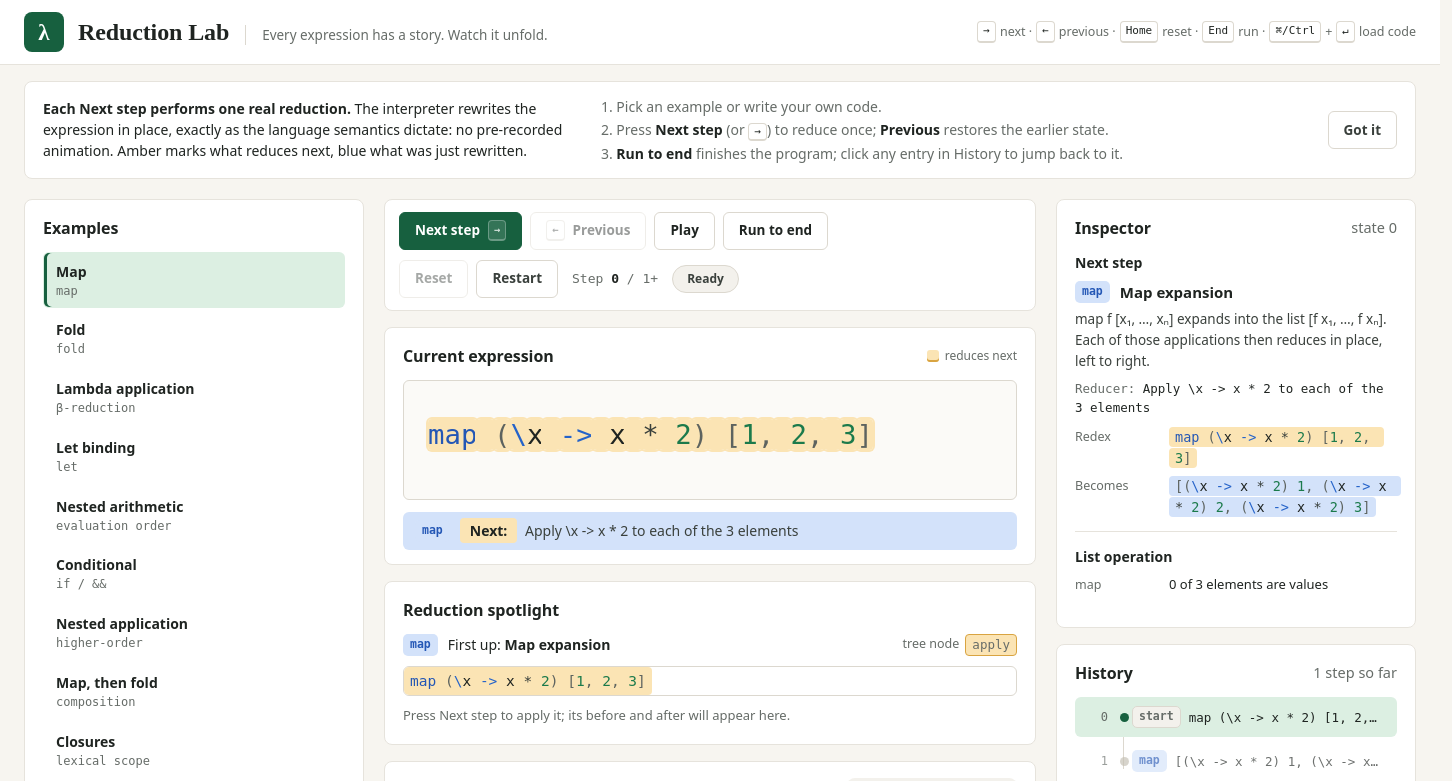
Scenario: timers stop when they should › switching examples during playback stops playback and starts a fresh history
Click the button "Play" at (685, 230), box [654, 212, 715, 250]
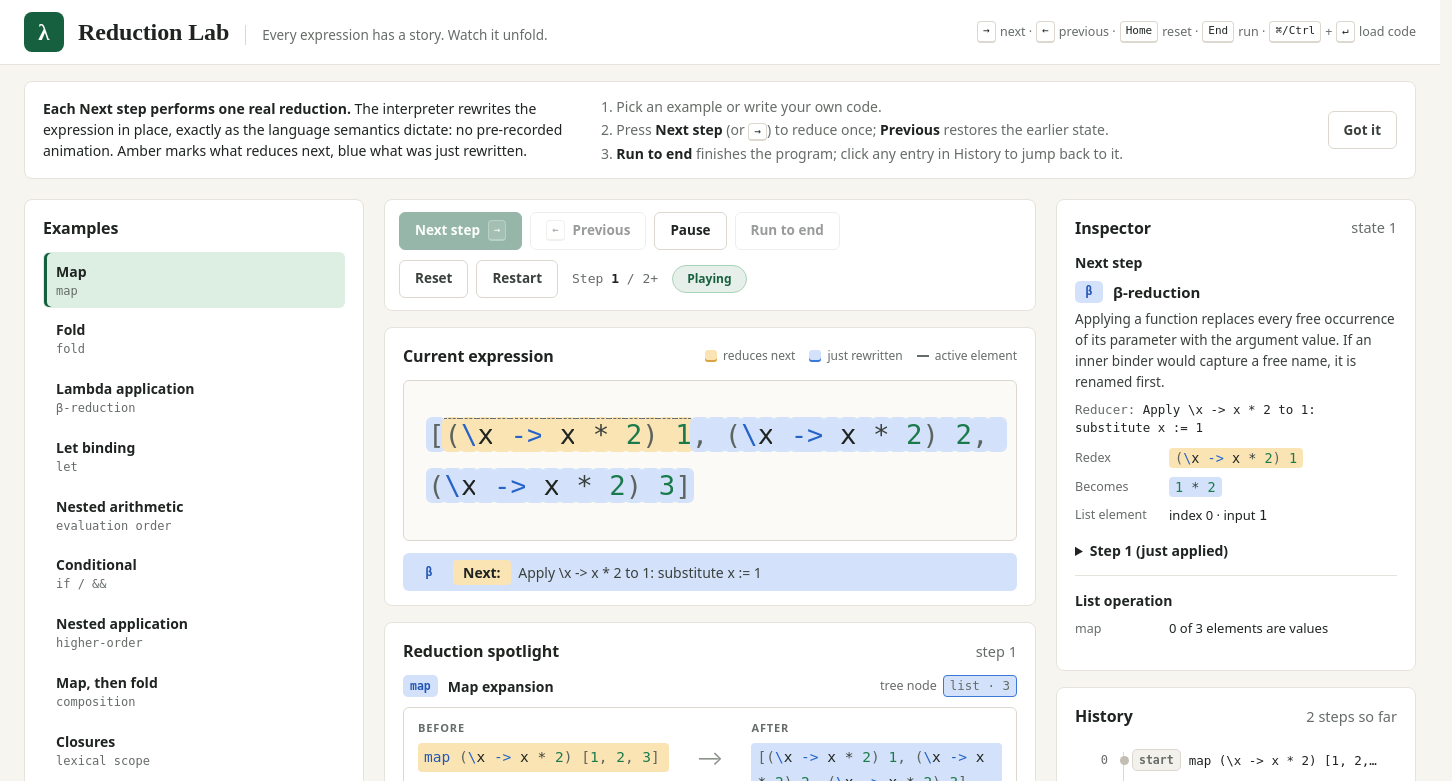
Click the button "Let binding let" at (96, 447), box [43, 428, 345, 485]
Wait 3250 ms
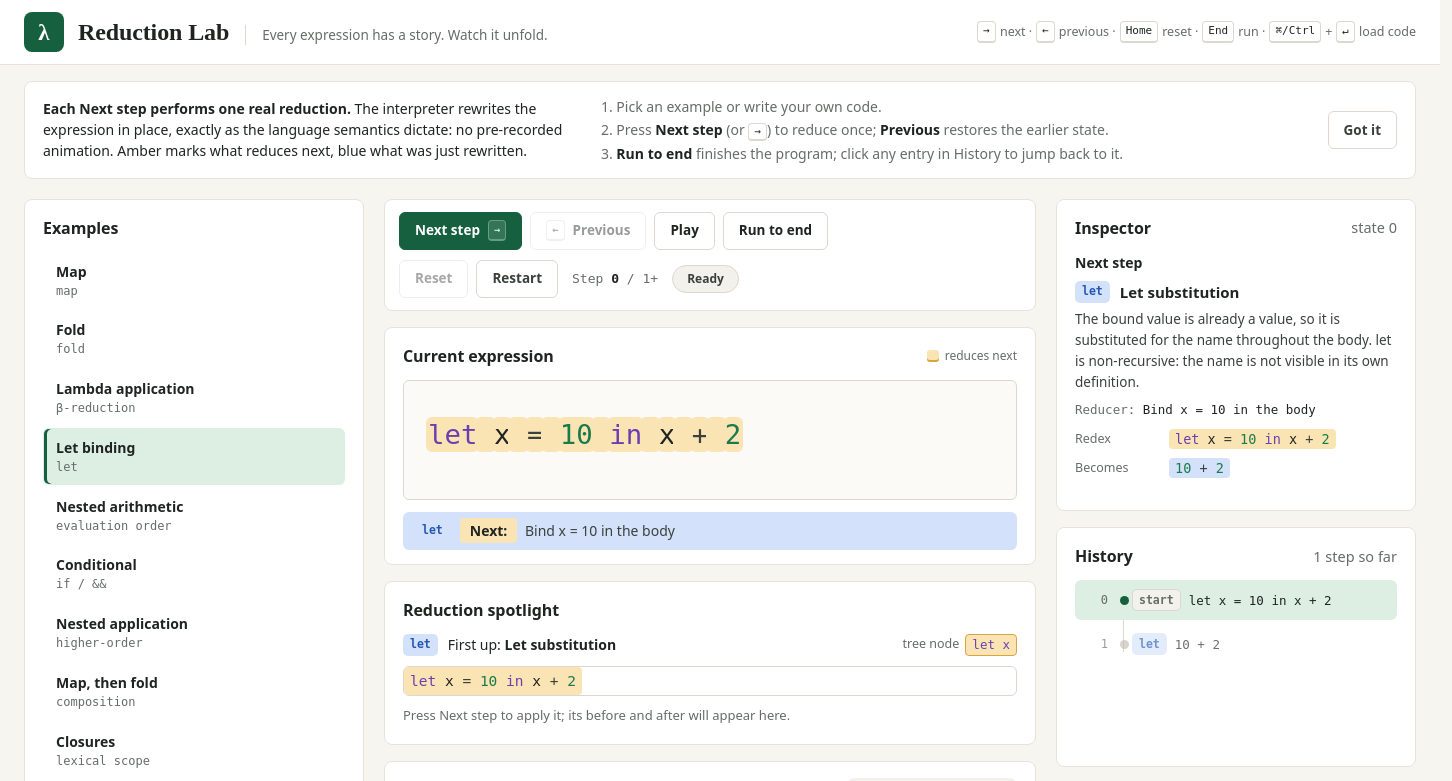
Check: the element named "Step counter" shows "Step 0", box [566, 271, 664, 286]
